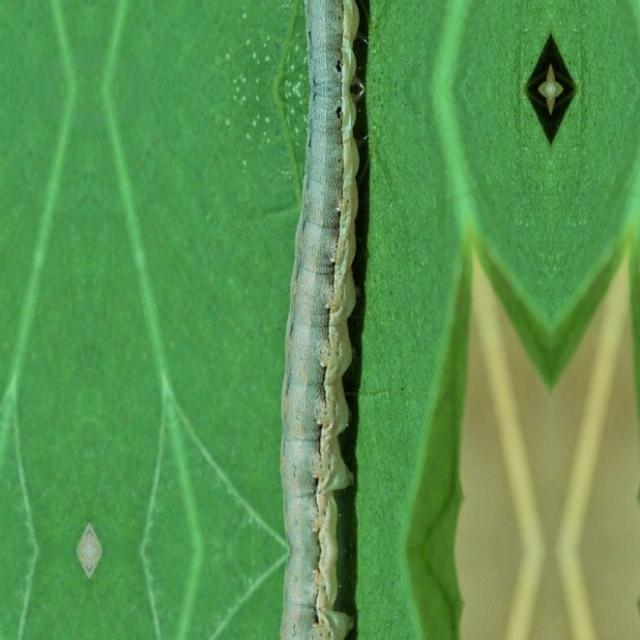armyworm: (278, 0, 366, 639)
